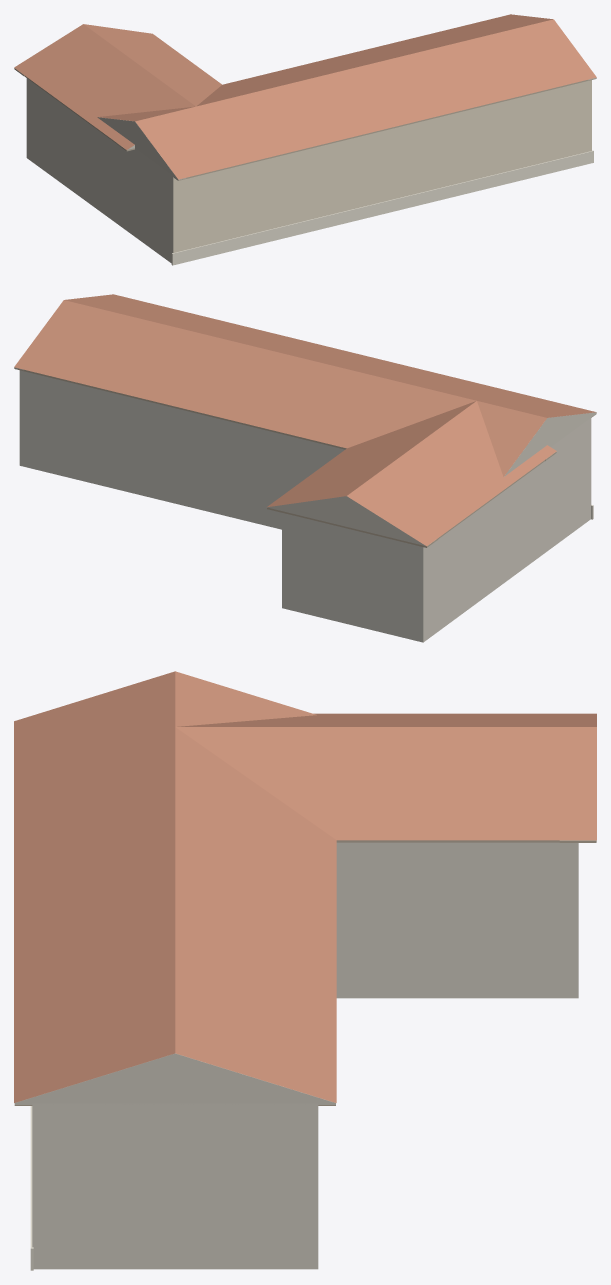
Rendered from cpG1530.glb.
3 views of the same model, one above another, from view 1: azimuth 30°, elevation 25°; view 2: azimuth 150°, elevation 25°; view 3: azimuth 270°, elevation 25° (orthographic). The views are drawn at different scales.
Parts seen in each view (by area): view 1: CP_G1530_Masonry, CP_G1530_Roof, CP_G1530_WingRoof_Rear, CP_G1530_Cornice_plinth_0, CP_G1530_Gable_L_gable, CP_G1530_Roof_EaveClosure_0; view 2: CP_G1530_Masonry, CP_G1530_Roof, CP_G1530_WingRoof_Rear, CP_G1530_Gable_L_gable, CP_G1530_Roof_EaveClosure_1; view 3: CP_G1530_Roof, CP_G1530_Masonry, CP_G1530_WingRoof_Rear, CP_G1530_Gable_R_gable.
Boxes of the visible parts, bbox=[...] form: CP_G1530_Masonry: bbox=[26, 78, 591, 263]; CP_G1530_Roof: bbox=[97, 14, 596, 179]; CP_G1530_WingRoof_Rear: bbox=[14, 24, 221, 149]; CP_G1530_Cornice_plinth_0: bbox=[171, 150, 593, 265]; CP_G1530_Gable_L_gable: bbox=[97, 117, 185, 180]; CP_G1530_Roof_EaveClosure_0: bbox=[174, 78, 596, 180]; CP_G1530_Masonry: bbox=[19, 370, 591, 642]; CP_G1530_Roof: bbox=[14, 294, 596, 476]; CP_G1530_WingRoof_Rear: bbox=[267, 401, 556, 546]; CP_G1530_Gable_L_gable: bbox=[504, 412, 596, 476]; CP_G1530_Roof_EaveClosure_1: bbox=[14, 368, 346, 449]; CP_G1530_Roof: bbox=[14, 671, 336, 1102]; CP_G1530_Masonry: bbox=[32, 842, 578, 1269]; CP_G1530_WingRoof_Rear: bbox=[176, 713, 596, 840]; CP_G1530_Gable_R_gable: bbox=[14, 1053, 335, 1104].
Size of the model in its own units: 15.14 by 3.9 by 9.54.
